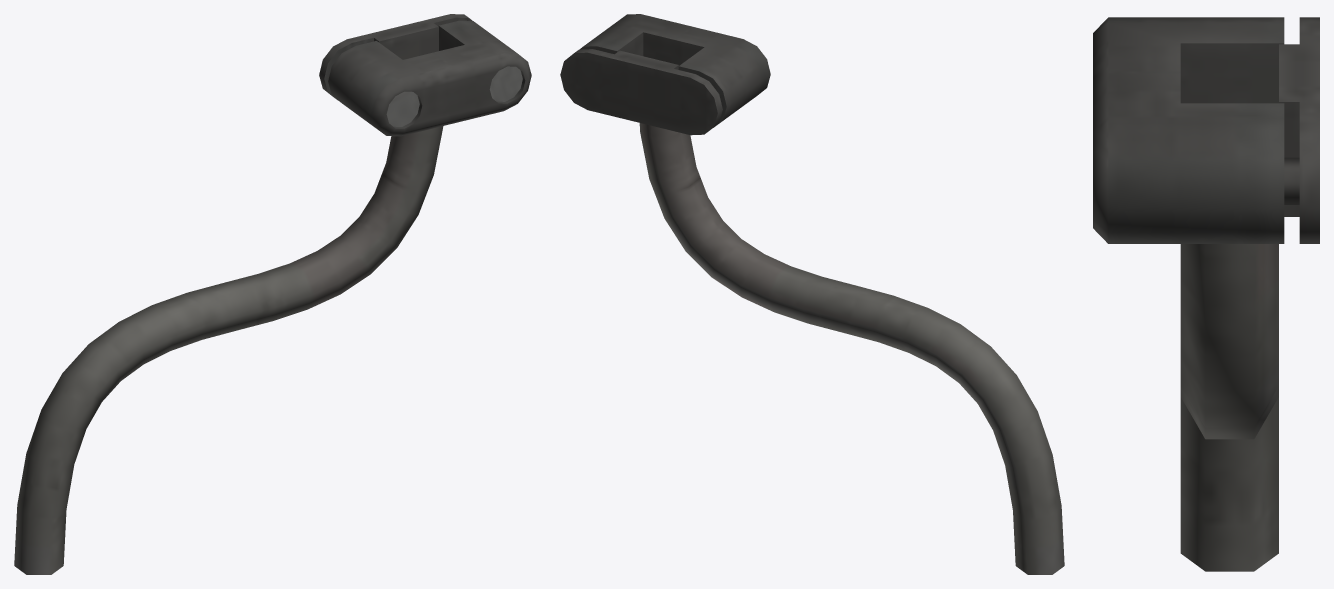
The model's file is cable_scurve_1.gltf.
3 renders of one model, left to right at view 1: azimuth 30°, elevation 25°; view 2: azimuth 150°, elevation 25°; view 3: azimuth 270°, elevation 25°, orthographic. The views are drawn at different scales.
Parts seen in each view (by area): view 1: cable_scurve_1; view 2: cable_scurve_1; view 3: cable_scurve_1.
Boxes of the visible parts, <box> form: cable_scurve_1: <box>14,14,531,574</box>; cable_scurve_1: <box>560,14,1064,574</box>; cable_scurve_1: <box>1093,17,1319,571</box>.
Size of the model in its own units: 0.1257 by 0.1073 by 0.0259.
Materials: 1 (1 with a texture image).
